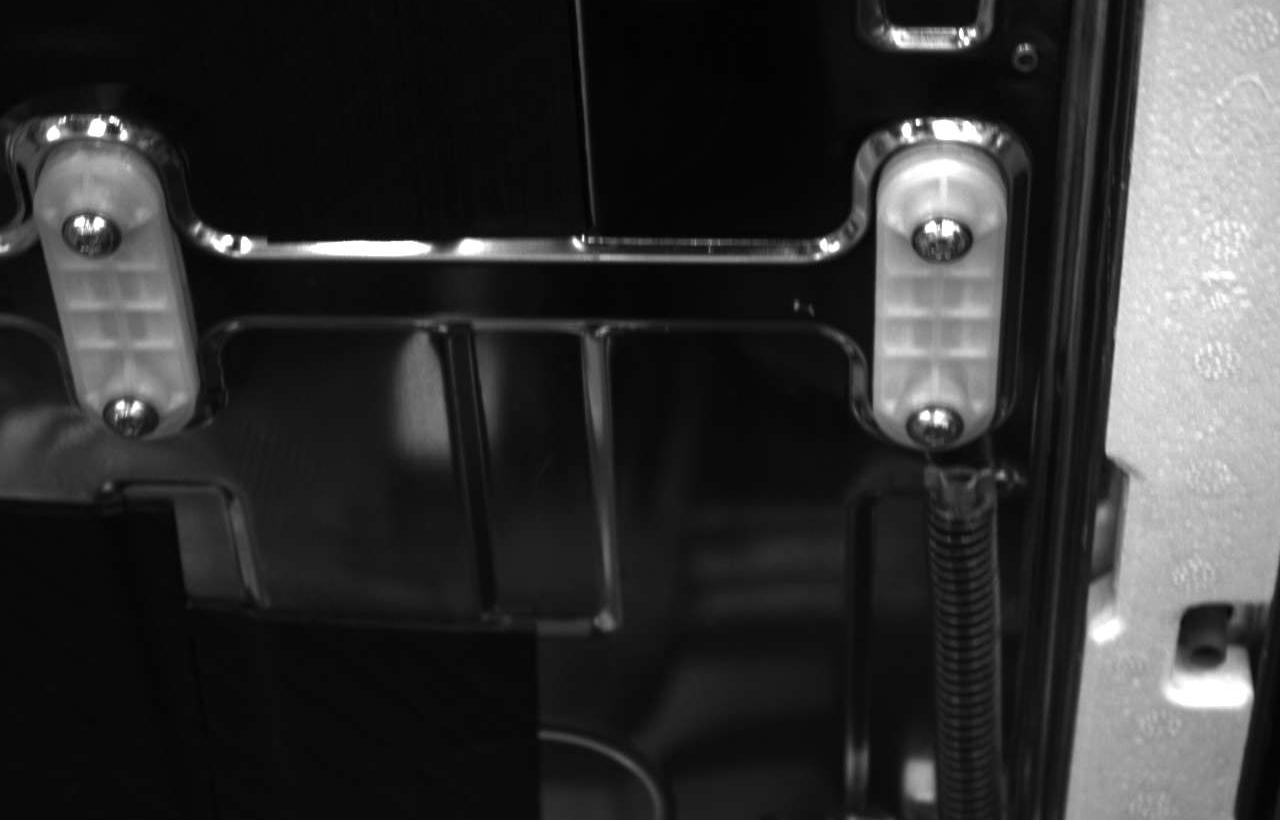vida-ok: (56, 198, 127, 265), (909, 208, 976, 275), (903, 395, 969, 454), (99, 387, 164, 445)
